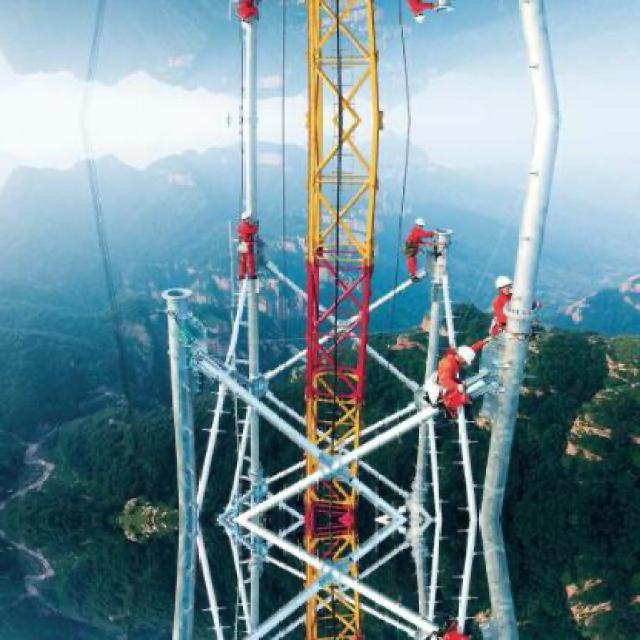con casco: (390, 209, 436, 265), (482, 267, 518, 319), (442, 338, 478, 382), (208, 205, 258, 235)
